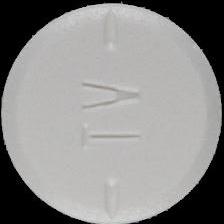0904-5222: (0, 0, 224, 224)
